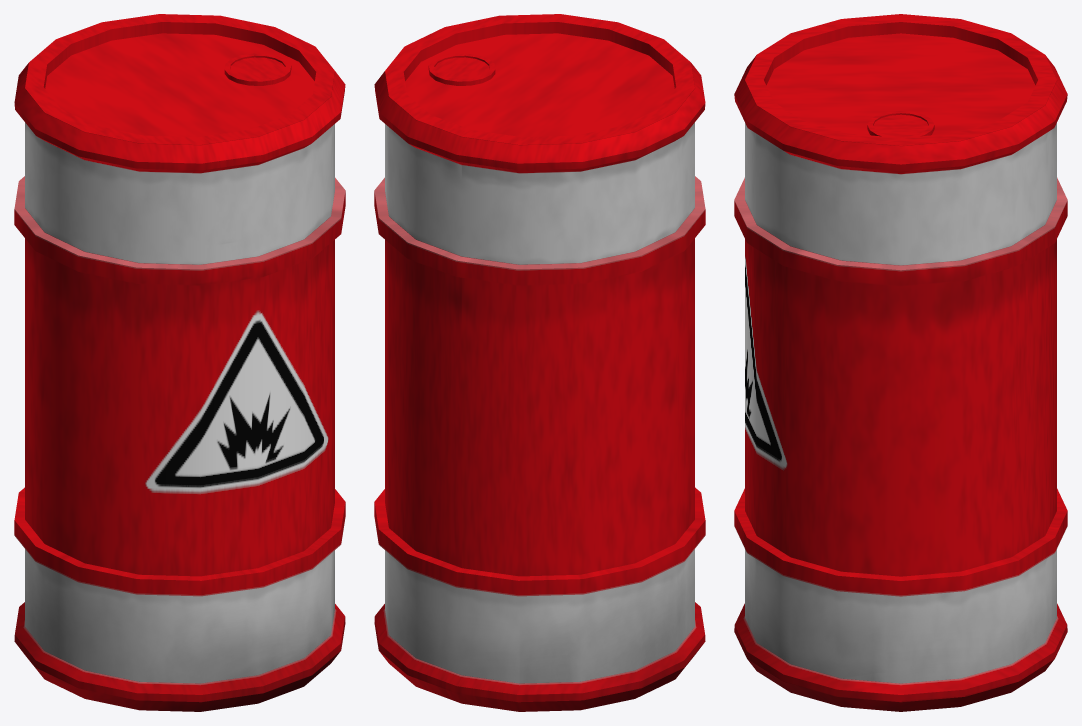
Rendered from Barrel.fbx.
3 renders of one model, left to right at view 1: azimuth 30°, elevation 25°; view 2: azimuth 150°, elevation 25°; view 3: azimuth 270°, elevation 25°, orthographic.
Visible parts, largest first — view 1: ExplosiveBarrel; view 2: ExplosiveBarrel; view 3: ExplosiveBarrel.
Part boxes in pixels (bbox=[...]): ExplosiveBarrel: bbox=[14, 14, 345, 711]; ExplosiveBarrel: bbox=[374, 14, 705, 711]; ExplosiveBarrel: bbox=[734, 14, 1067, 711].
Size of the model in its own units: 53.37 by 100 by 53.37.
2 materials, 2 textured.
